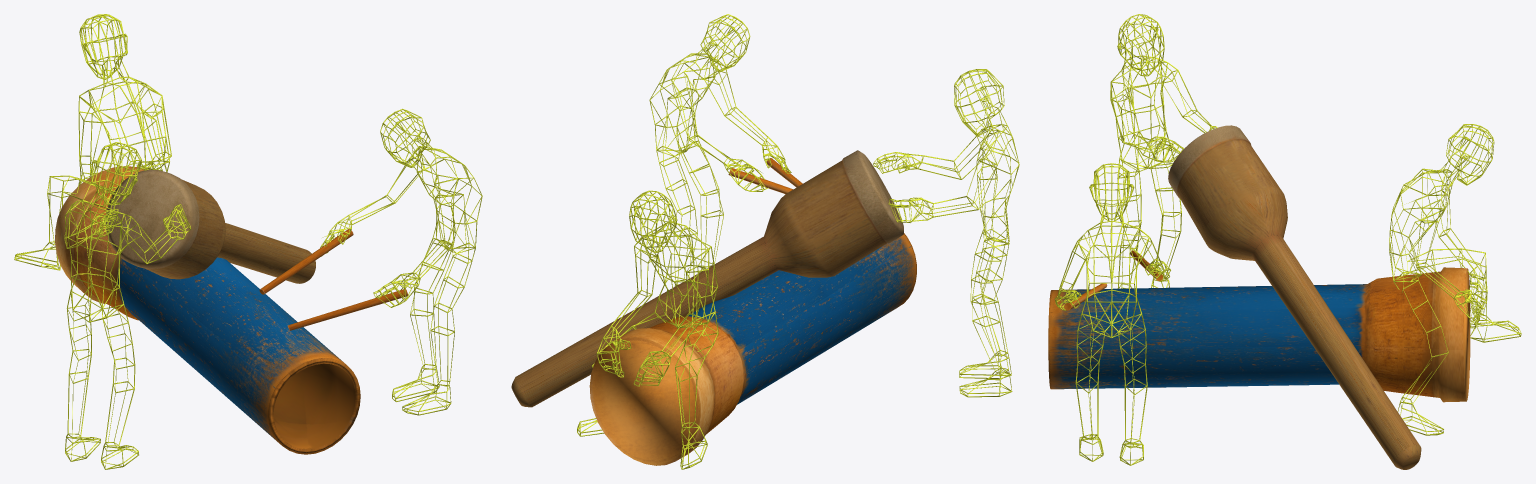
Rendered from umbigada_v2.glb.
3 renders of one model, left to right at view 1: azimuth 30°, elevation 25°; view 2: azimuth 150°, elevation 25°; view 3: azimuth 270°, elevation 25°, orthographic. The views are drawn at different scales.
Visible parts, largest first — view 1: Cylinder.004, Cylinder.006, Cube.001, Cube.002, Cube, Cylinder.003, Cylinder.005; view 2: Cylinder.004, Cylinder.006, Cube, Cube.001, Cube.002; view 3: Cylinder.004, Cylinder.006, Cube.002, Cube, Cube.001.
Part boxes in pixels (x1,y1,x2,y2): Cylinder.004: [55, 166, 360, 454]; Cylinder.006: [106, 169, 315, 283]; Cube.001: [64, 142, 191, 469]; Cube.002: [320, 108, 482, 415]; Cube: [14, 14, 171, 270]; Cylinder.003: [287, 289, 407, 330]; Cylinder.005: [259, 229, 353, 294]; Cylinder.004: [589, 233, 916, 465]; Cylinder.006: [511, 150, 903, 407]; Cube: [577, 190, 718, 469]; Cube.001: [873, 69, 1019, 397]; Cube.002: [649, 14, 791, 286]; Cylinder.004: [1048, 267, 1470, 402]; Cylinder.006: [1168, 125, 1421, 469]; Cube.002: [1054, 163, 1170, 465]; Cube: [1389, 124, 1521, 435]; Cube.001: [1110, 14, 1217, 288].
Size of the model in its own units: 6.11 by 4.87 by 6.89.
5 materials, 4 textured.
